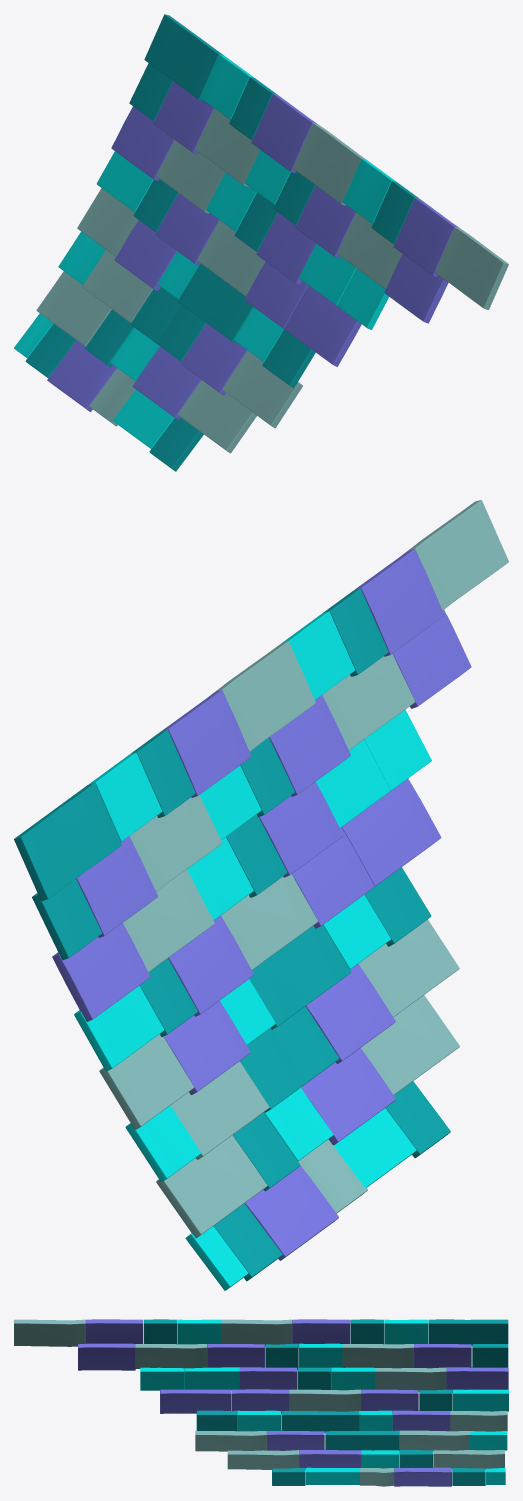
File: SM_Hous03_roof_02.fbx
The picture shows the model from 3 angles, top to bottom: view 1: azimuth 30°, elevation 25°; view 2: azimuth 150°, elevation 25°; view 3: azimuth 270°, elevation 25°; orthographic projection. The views are drawn at different scales.
Parts seen in each view (by area): view 1: SM_Hous03_roof_02; view 2: SM_Hous03_roof_02; view 3: SM_Hous03_roof_02.
Boxes of the visible parts, x1,y1,x2,y2 form: SM_Hous03_roof_02: [14, 14, 508, 471]; SM_Hous03_roof_02: [14, 500, 508, 1290]; SM_Hous03_roof_02: [14, 1319, 508, 1486].
Bounding box in the file's own units: 1.66 × 2.95 × 5.99.
